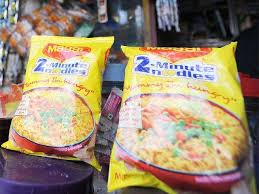maggie: (111, 41, 247, 191), (22, 35, 104, 159)
